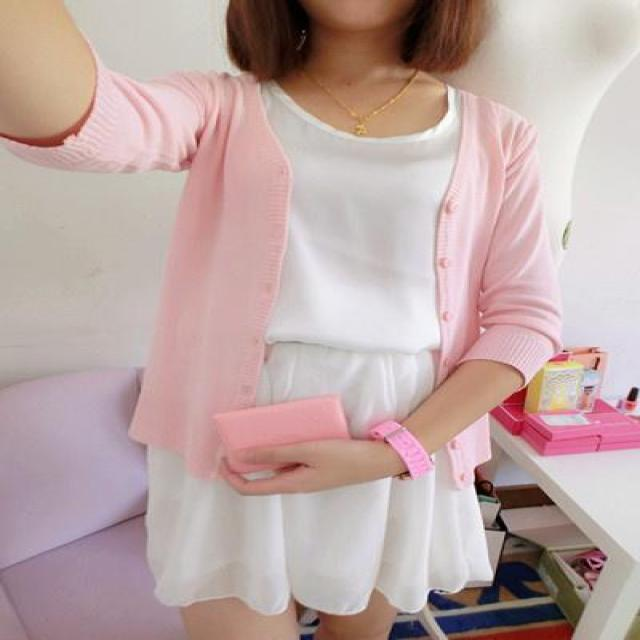long-sleeve-outwear: (91, 43, 580, 611)
